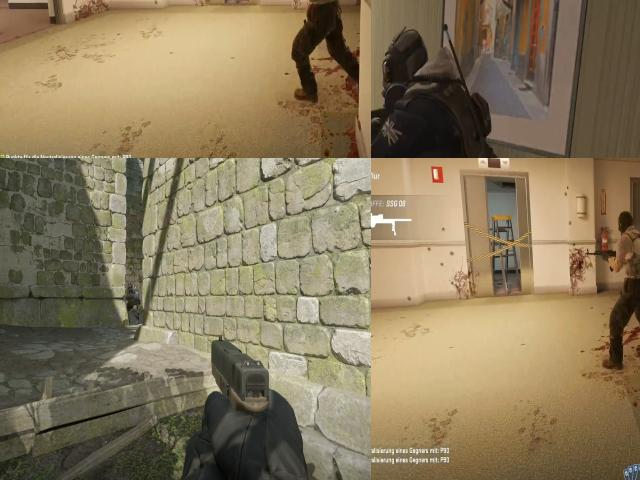CT: (371, 10, 467, 158), (124, 278, 142, 322)
CT-Head: (376, 22, 442, 114), (126, 283, 136, 292)
T: (605, 205, 640, 296), (284, 0, 350, 21)
T-Head: (610, 207, 640, 239)
